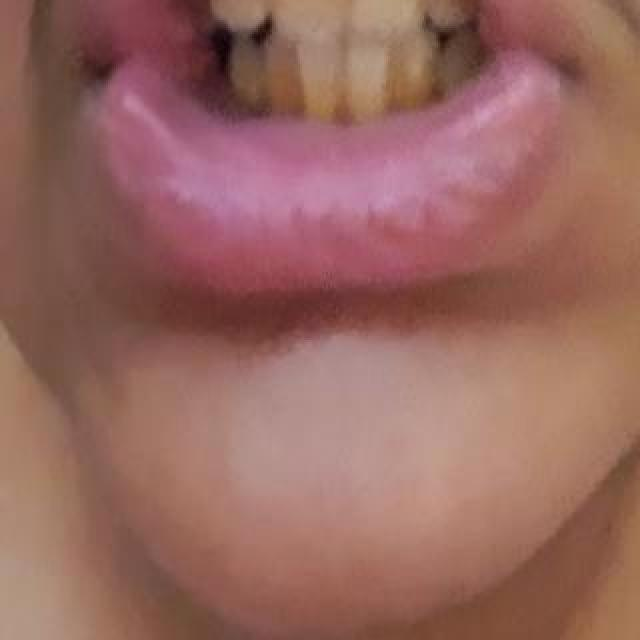stains: (293, 39, 343, 133), (394, 26, 442, 112), (255, 42, 299, 134), (341, 41, 387, 123)
